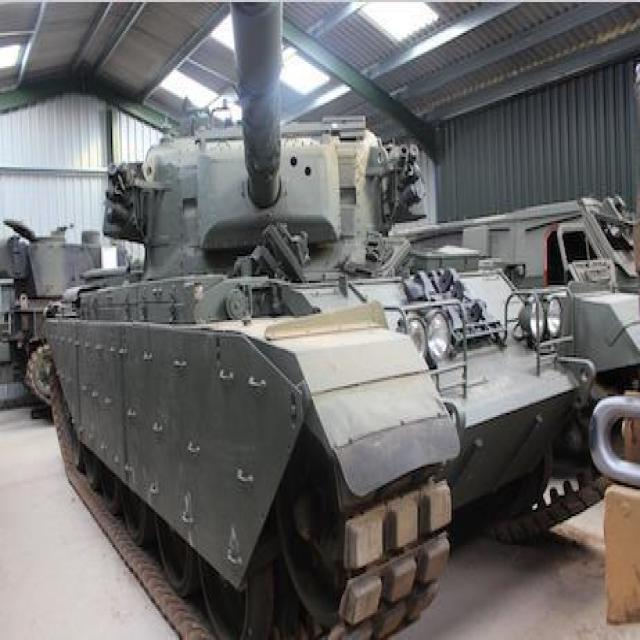Tanks: (57, 129, 569, 606)
